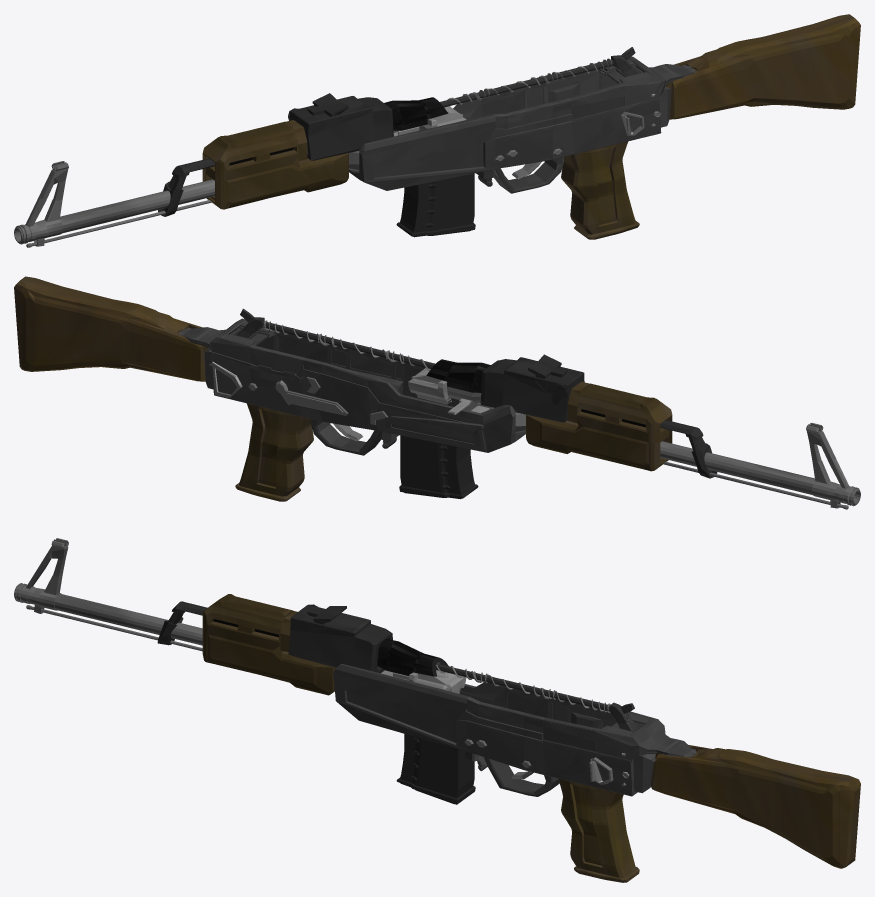
3 renders of one model, top to bottom at view 1: azimuth 30°, elevation 25°; view 2: azimuth 150°, elevation 25°; view 3: azimuth 330°, elevation 25°, orthographic.
Parts seen in each view (by area): view 1: Receiver, ButtOfTheWeapon, Forearm, GasTube, Handle, TheBarrel, LowCharge(AK), Valve, Spring, Ramrod; view 2: Receiver, ButtOfTheWeapon, Forearm, GasTube, Handle, TheBarrel, LowCharge(AK), Valve, Spring, Ramrod; view 3: Receiver, ButtOfTheWeapon, Forearm, GasTube, Handle, TheBarrel, LowCharge(AK), Valve, Spring.
Part boxes in pixels (x1,y1,x2,y2): Receiver: (349,56,695,193); ButtOfTheWeapon: (666,14,860,119); Forearm: (202,120,348,209); GasTube: (158,93,393,216); Handle: (561,141,639,239); TheBarrel: (14,151,359,246); LowCharge(AK): (396,173,475,237); Valve: (384,97,466,135); Spring: (440,47,641,108); Ramrod: (26,200,212,247); Receiver: (178,318,525,455); ButtOfTheWeapon: (14,276,208,381); Forearm: (526,381,672,471); GasTube: (480,354,717,478); Handle: (235,403,313,501); TheBarrel: (493,407,860,508); LowCharge(AK): (399,435,478,499); Valve: (408,359,490,414); Spring: (233,308,435,370); Ramrod: (663,461,848,509); Receiver: (333,663,696,796); ButtOfTheWeapon: (650,745,860,868); Forearm: (202,594,336,695); GasTube: (157,601,392,673); Handle: (558,778,639,882); TheBarrel: (14,538,202,645); LowCharge(AK): (396,734,475,804); Valve: (377,639,466,693); Spring: (436,663,644,732).
Size of the model in its own units: 238 by 54.22 by 20.53.
